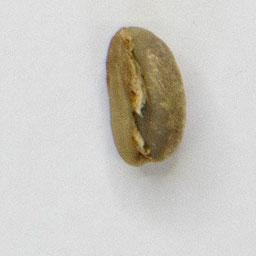longberry: (103, 21, 190, 169)
